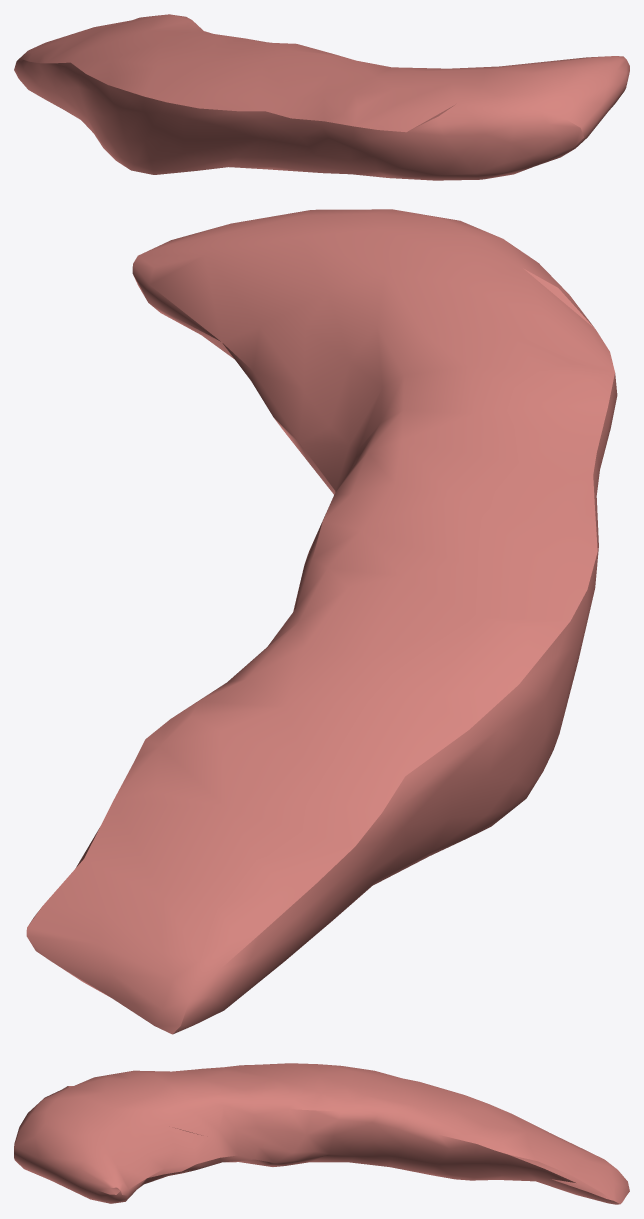
The model's file is fma299399_mm1772.glb.
3 renders of one model, top to bottom at view 1: azimuth 30°, elevation 25°; view 2: azimuth 150°, elevation 25°; view 3: azimuth 270°, elevation 25°, orthographic. The views are drawn at different scales.
Visible parts, largest first — view 1: FMA299399_MM1772; view 2: FMA299399_MM1772; view 3: FMA299399_MM1772.
Part boxes in pixels (x1,y1,x2,y2): FMA299399_MM1772: (14, 14, 629, 180); FMA299399_MM1772: (26, 209, 617, 1034); FMA299399_MM1772: (14, 1063, 629, 1204).
Size of the model in its own units: 0.0258 by 0.0122 by 0.0423.
